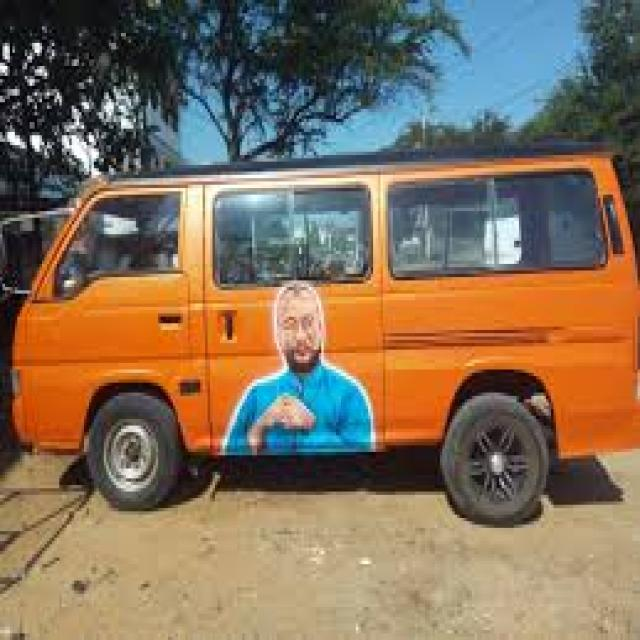matatu: (4, 118, 640, 590)
